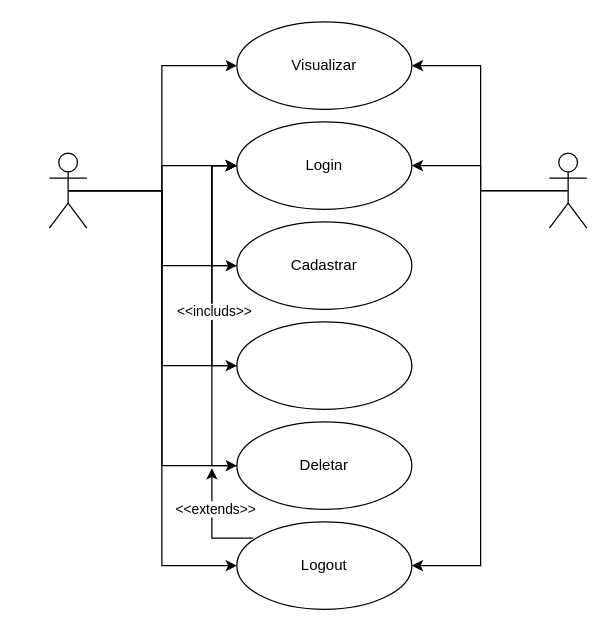
The diagram is 615 pixels wide and 631 high, and some of its shapes have lost their labels. Each missing label, with the box of its shape:
Administrador: (48, 152, 87, 228)
Atualizar: (236, 321, 412, 409)
Usuario: (548, 152, 587, 228)
